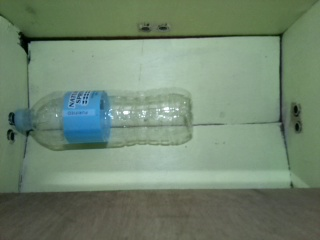bottle: (14, 87, 192, 152)
